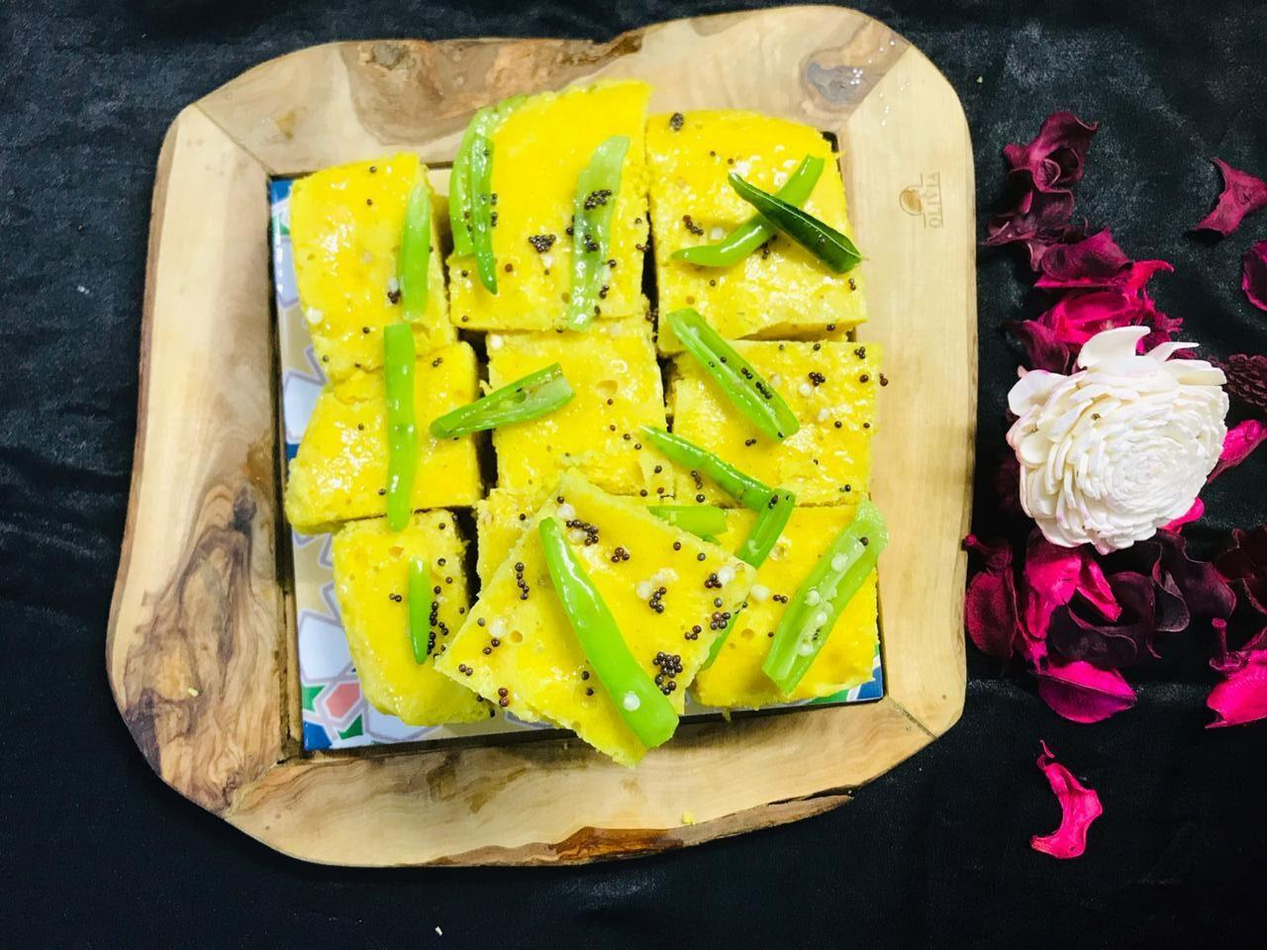dhokla: (294, 88, 883, 702)
